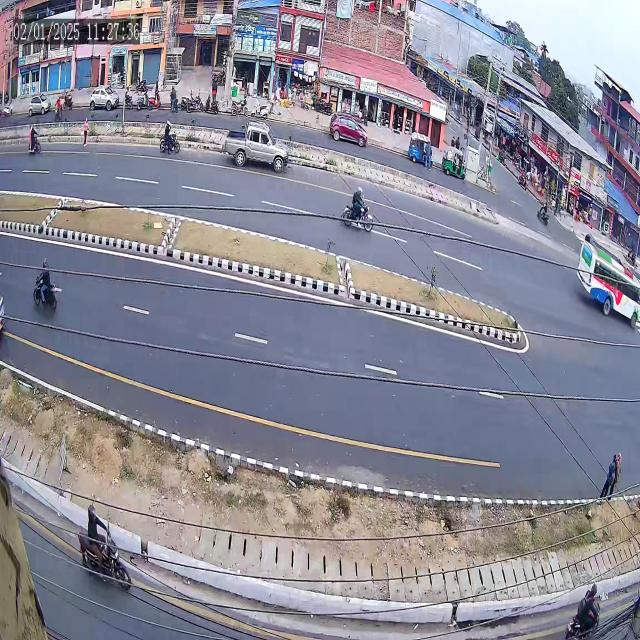motorcycle: (69, 492, 141, 606), (327, 177, 384, 237), (28, 245, 67, 324), (22, 117, 44, 165)
